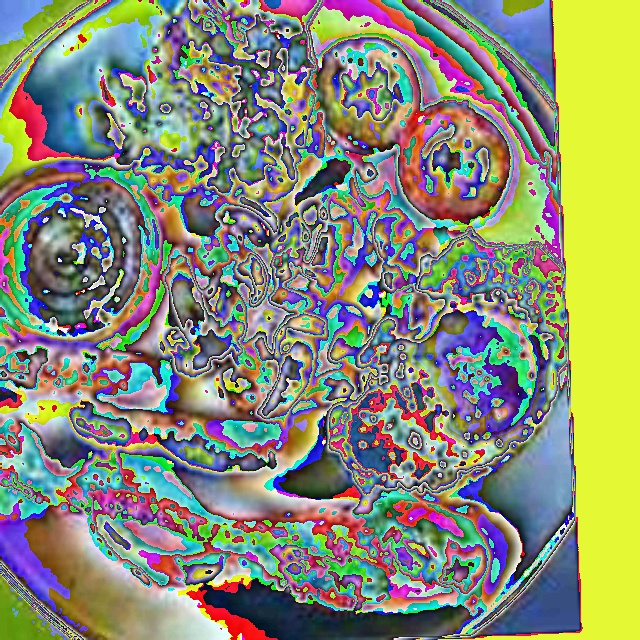background: (0, 0, 568, 623)
